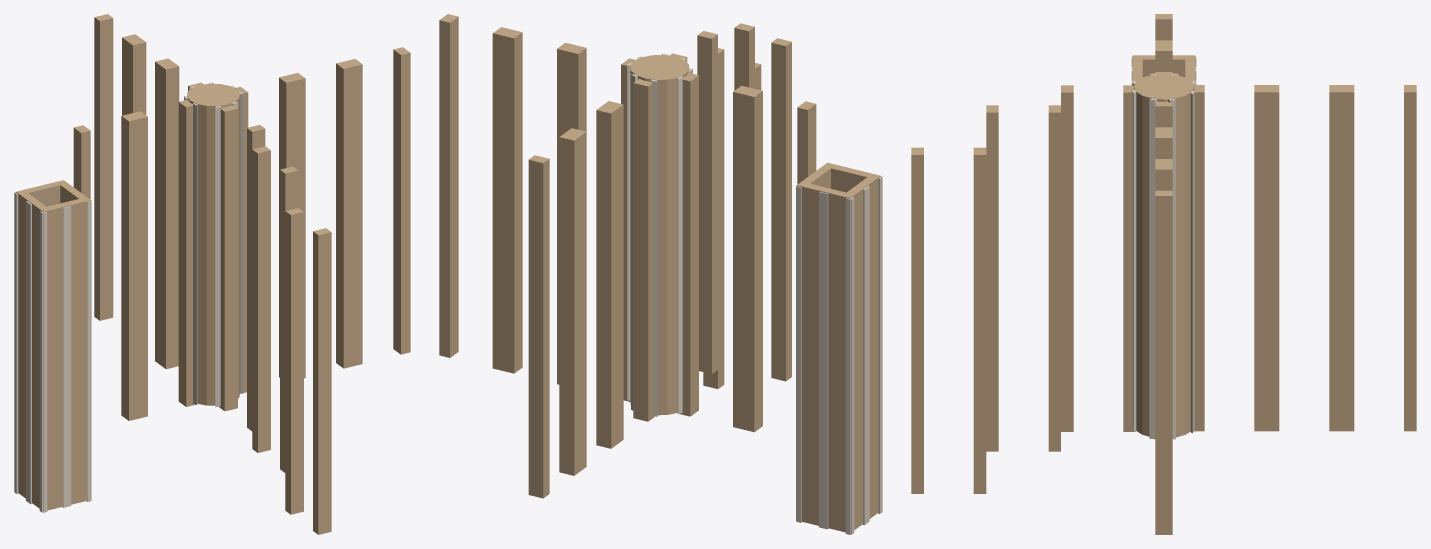
Rendered from legs.fbx.
The picture shows the model from 3 angles, left to right: view 1: azimuth 30°, elevation 25°; view 2: azimuth 150°, elevation 25°; view 3: azimuth 270°, elevation 25°; orthographic projection. The views are drawn at different scales.
Visible parts, largest first — view 1: assets.006; view 2: assets.006; view 3: assets.006.
Boxes of the visible parts, x1,y1,x2,y2 form: assets.006: (14, 14, 410, 534); assets.006: (439, 14, 882, 534); assets.006: (911, 14, 1416, 534).
Size of the model in its own units: 15859 by 14513 by 16200.
